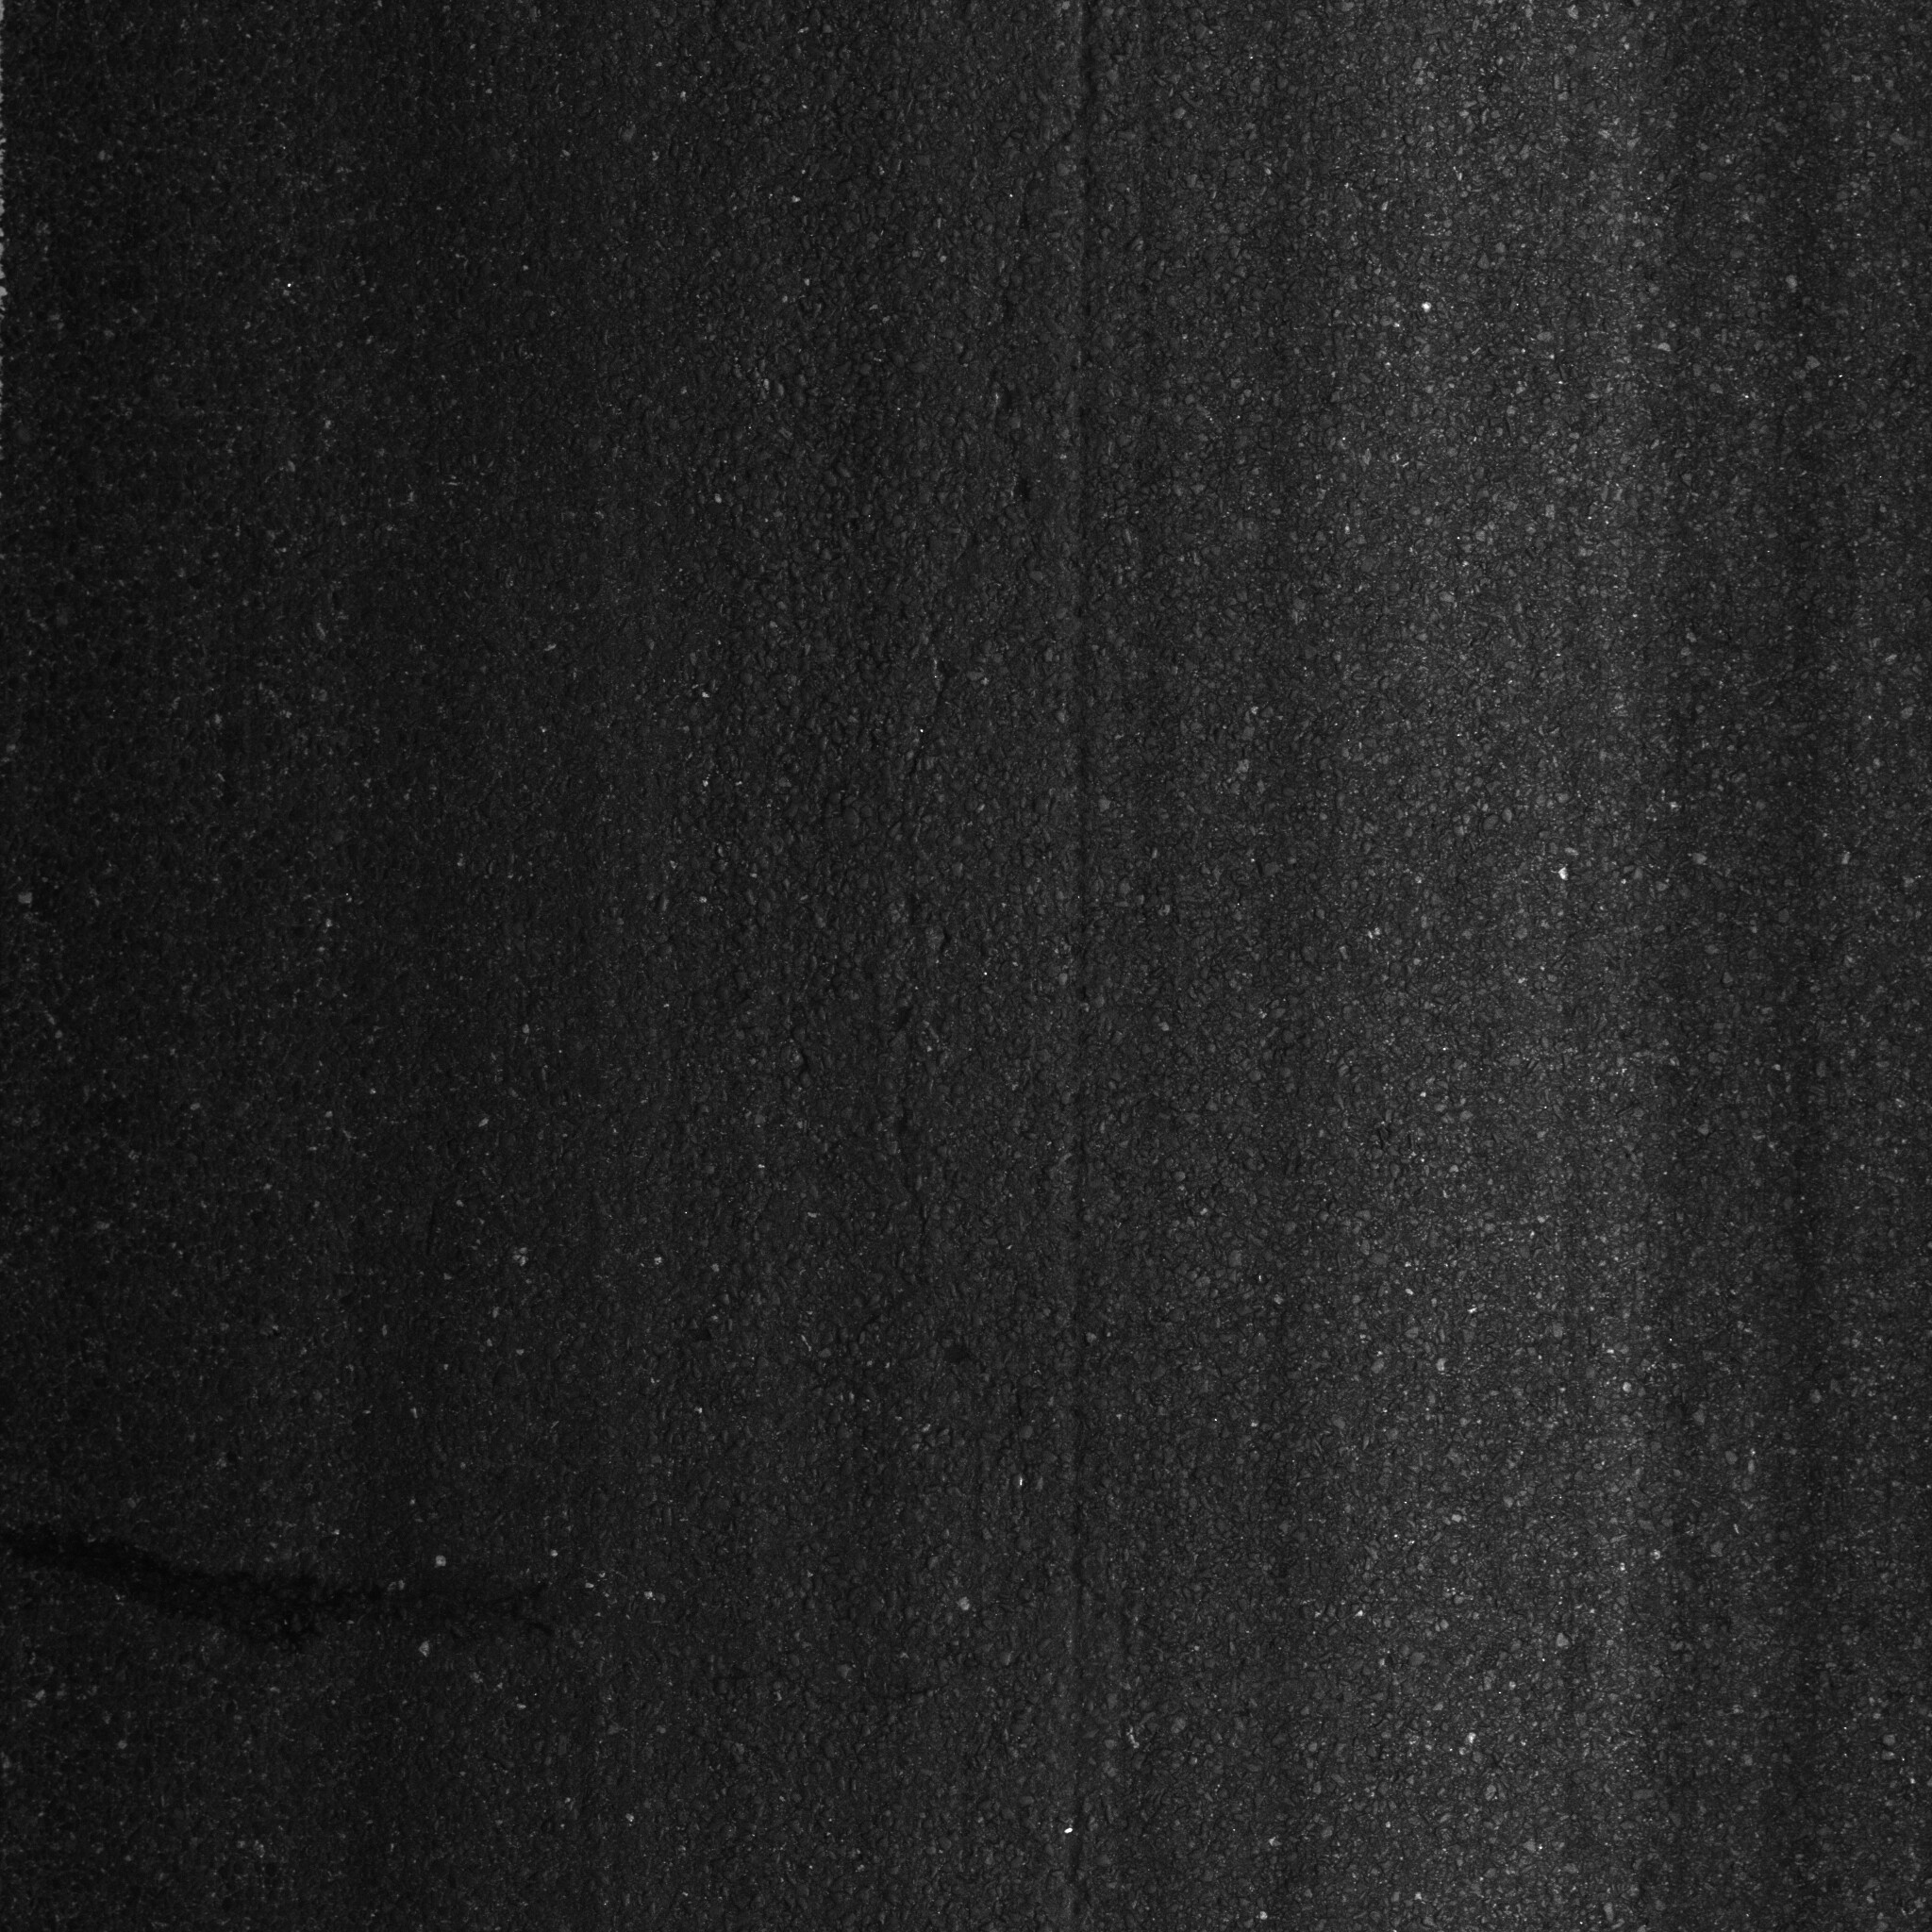longitudinal: (830, 465, 1019, 1428)
